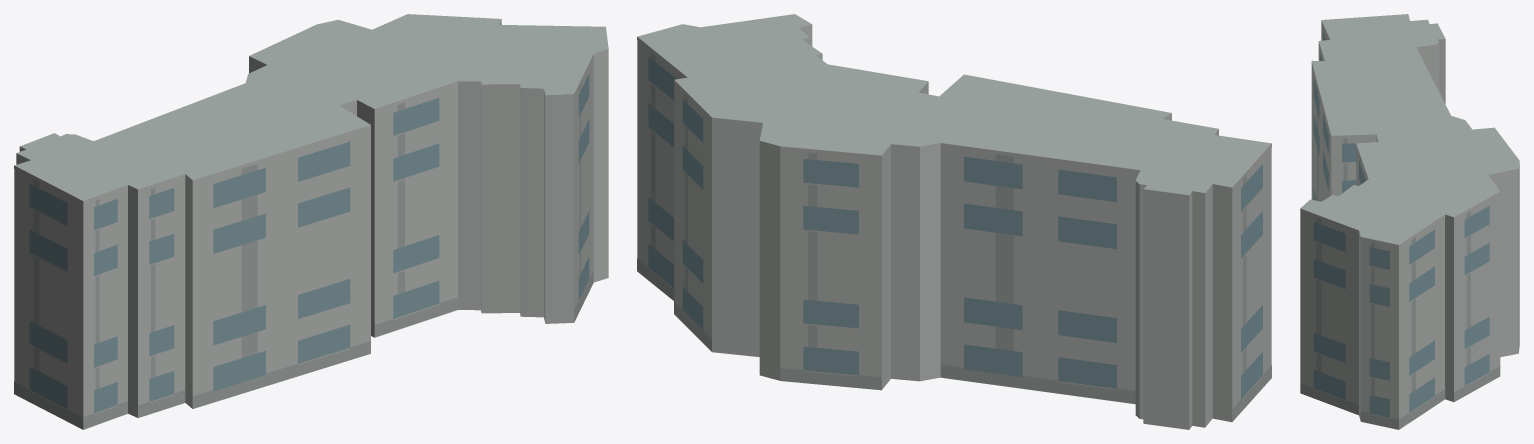
The model's file is survey-upis-32687955.glb.
3 renders of one model, left to right at view 1: azimuth 30°, elevation 25°; view 2: azimuth 150°, elevation 25°; view 3: azimuth 270°, elevation 25°, orthographic. The views are drawn at different scales.
Visible parts, largest first — view 1: survey-upis-32687955.tmp; view 2: survey-upis-32687955.tmp; view 3: survey-upis-32687955.tmp.
Part boxes in pixels (box(x1,y1,x2,y2)): survey-upis-32687955.tmp: box(14, 14, 608, 429); survey-upis-32687955.tmp: box(637, 14, 1271, 429); survey-upis-32687955.tmp: box(1300, 14, 1519, 429).
Size of the model in its own units: 40.88 by 15.25 by 16.41.
